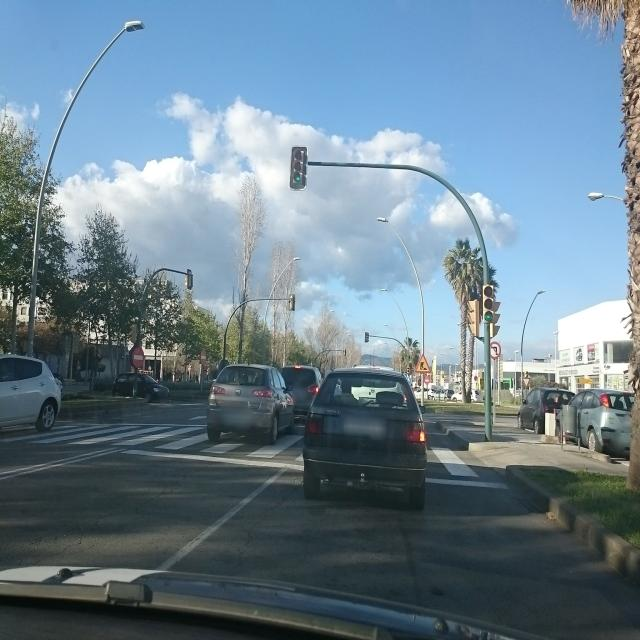car: (301, 365, 428, 508), (206, 362, 296, 444), (0, 352, 63, 443), (556, 388, 634, 454), (518, 387, 573, 434), (279, 364, 323, 420), (112, 371, 170, 402)
